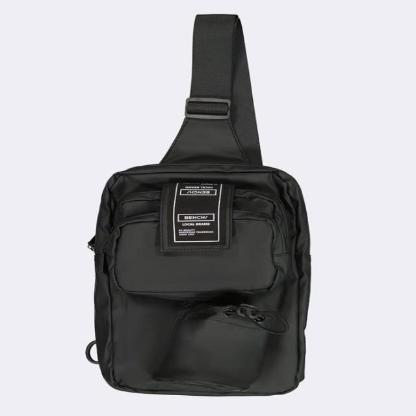person: (73, 4, 312, 406)
